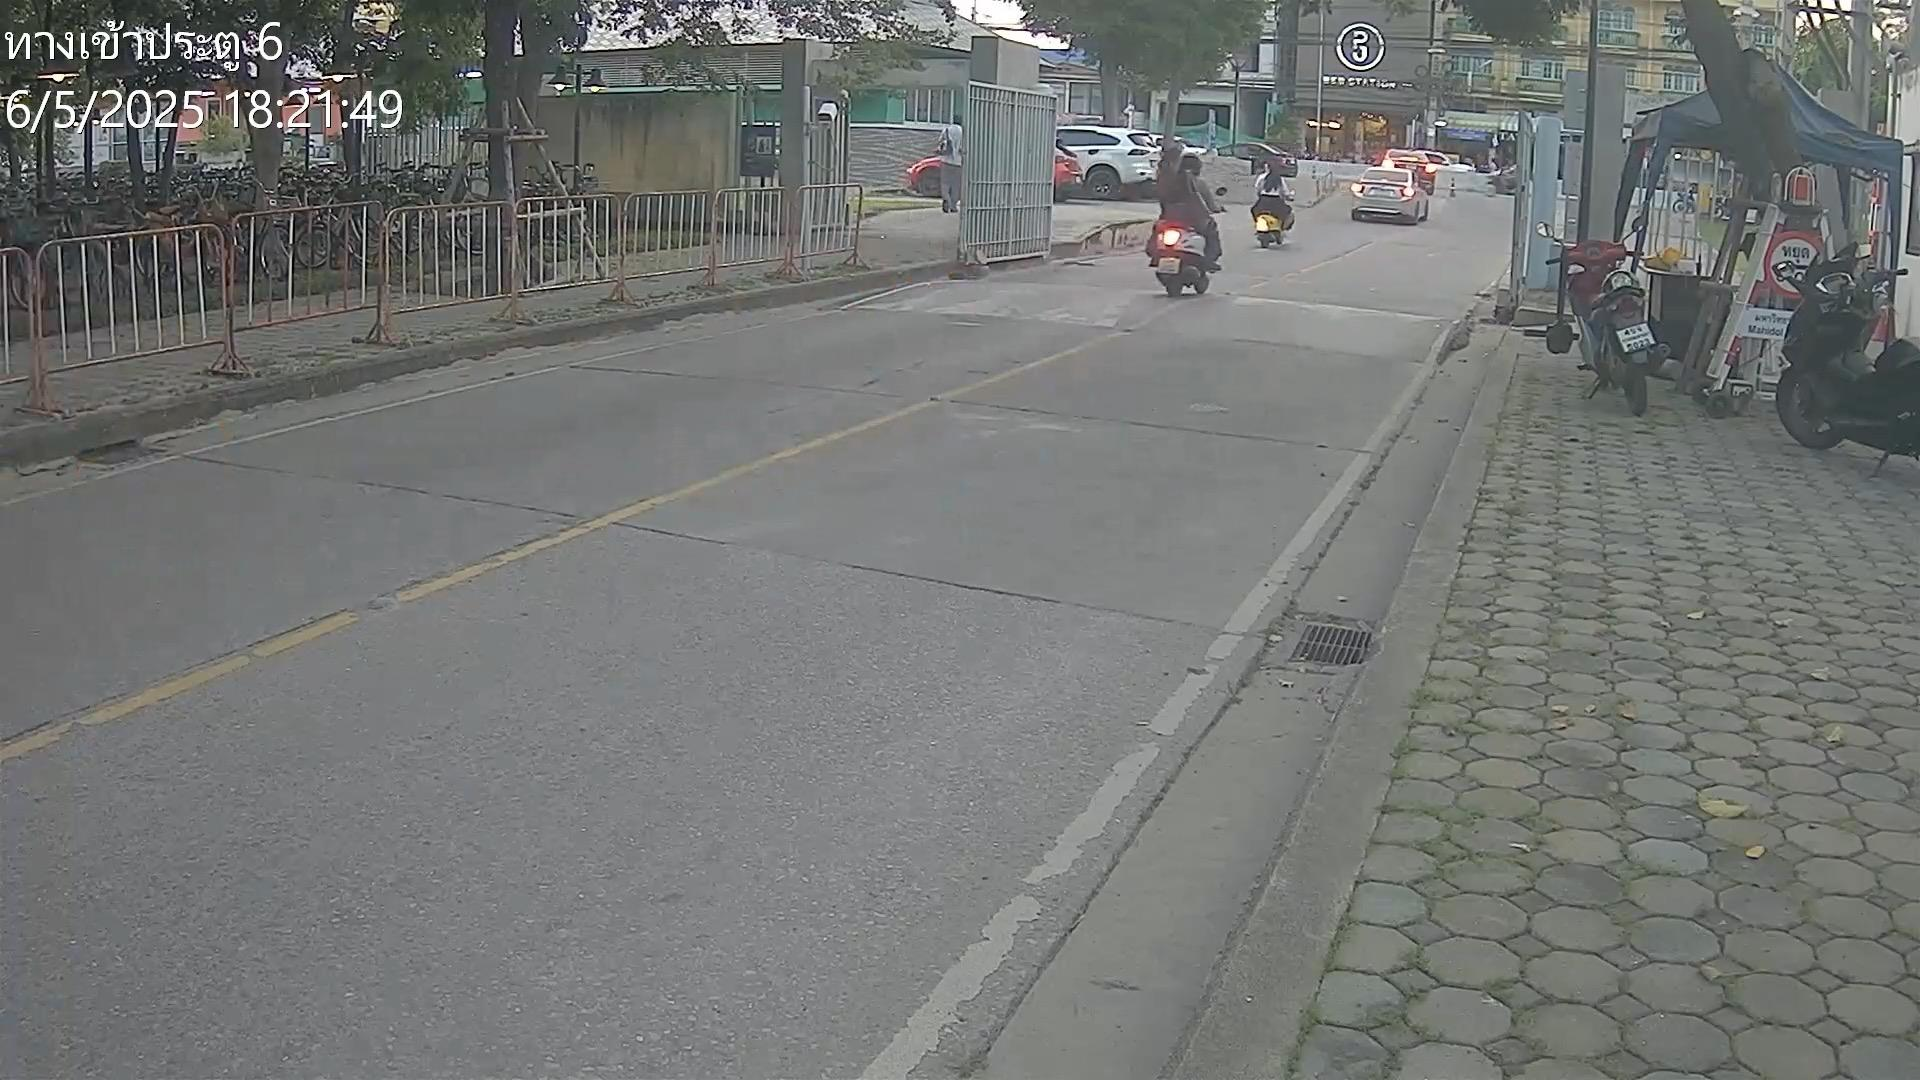With-Helmet: (1180, 152, 1201, 177)
